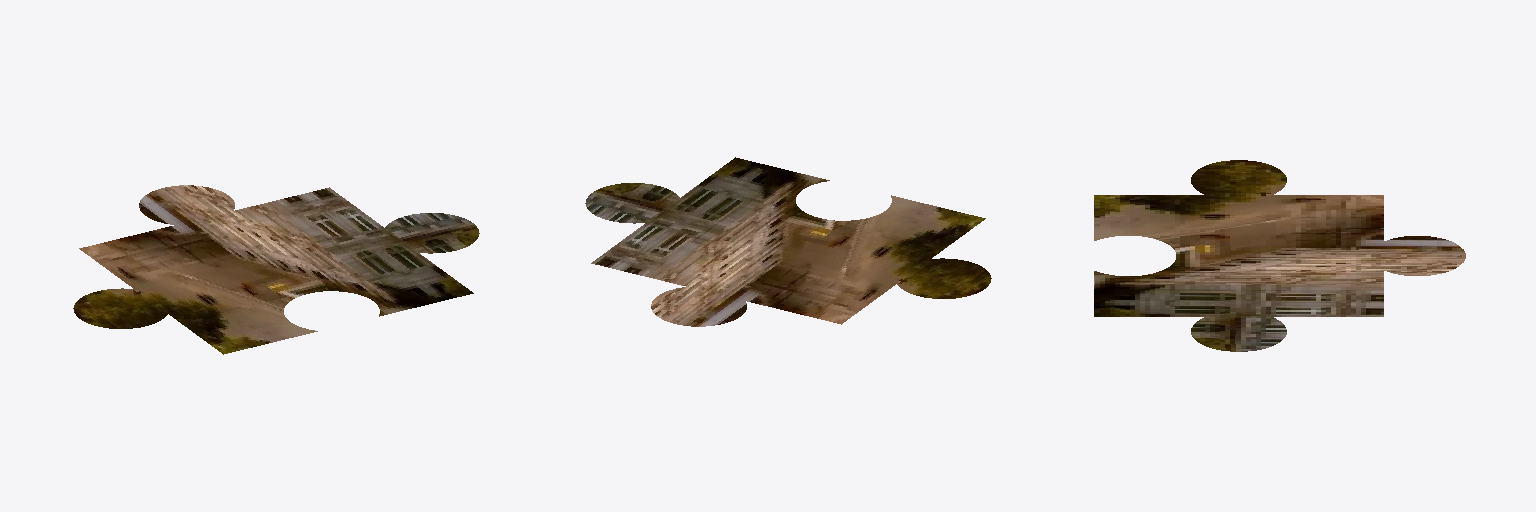
3 views of the same model, side by side, from view 1: azimuth 30°, elevation 25°; view 2: azimuth 150°, elevation 25°; view 3: azimuth 270°, elevation 25° (orthographic).
Parts seen in each view (by area): view 1: ͼ��067; view 2: ͼ��067; view 3: ͼ��067.
Boxes of the visible parts, <box> form: ͼ��067: <box>73,185,479,354</box>; ͼ��067: <box>585,157,991,326</box>; ͼ��067: <box>1094,160,1465,351</box>.
Bounding box in the file's own units: 47.01 × 0 × 38.5.
1 materials, 1 textured.